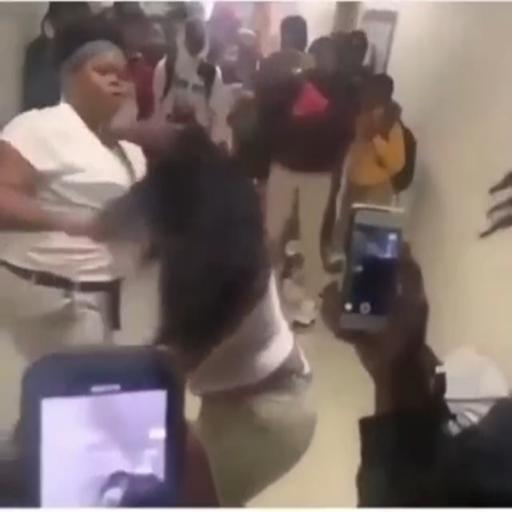violencia: (0, 7, 324, 512)
